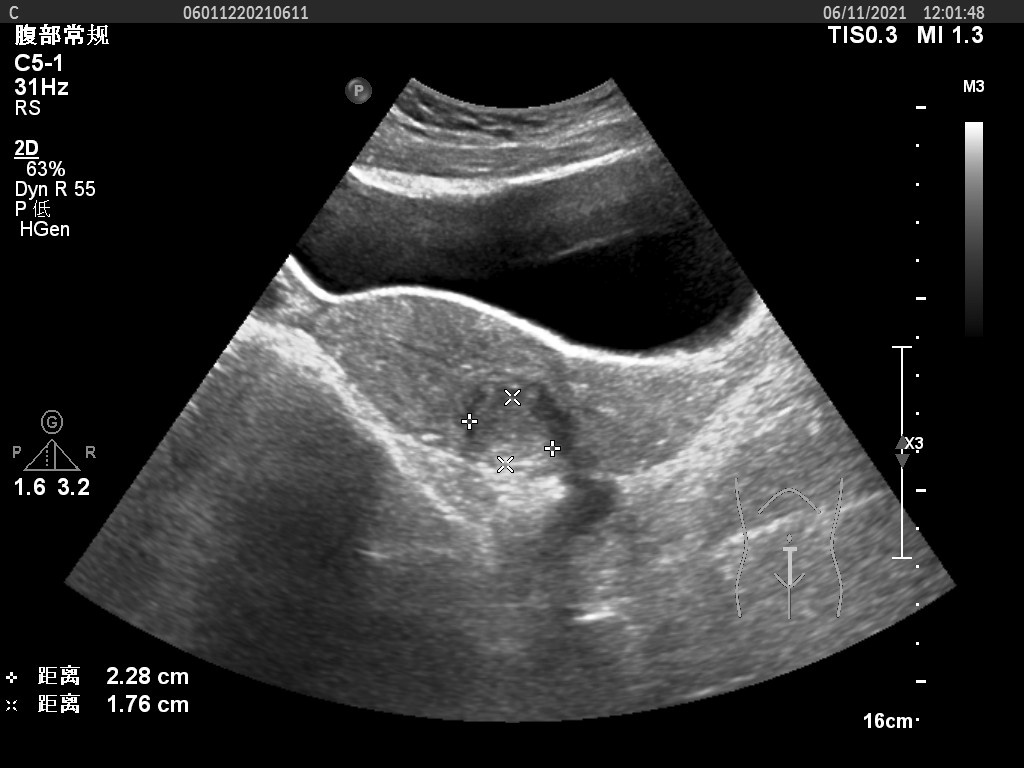肌瘤: (473, 400, 548, 462)
